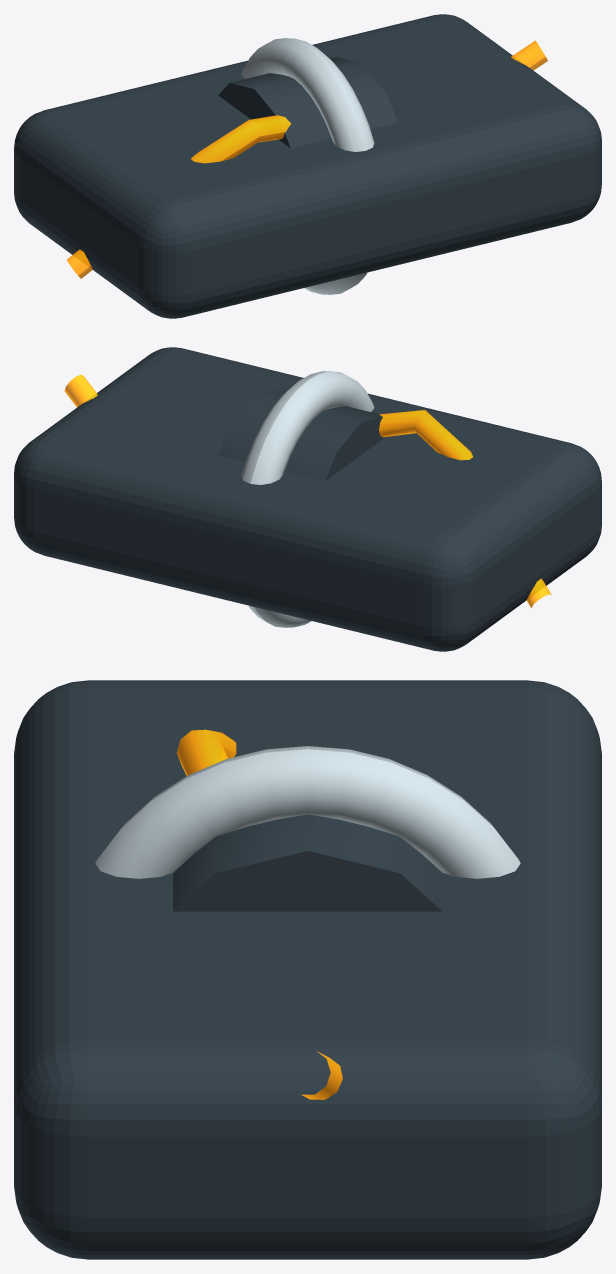
The model's file is body_26.glb.
The picture shows the model from 3 angles, top to bottom: view 1: azimuth 30°, elevation 25°; view 2: azimuth 150°, elevation 25°; view 3: azimuth 270°, elevation 25°; orthographic projection. The views are drawn at different scales.
Parts seen in each view (by area): view 1: asset_mesh__body_1232__reference_body, asset_mesh__body_1246__functional_ring, asset_mesh__body_1246__rotor, asset_mesh__body_1248__fluid_path; view 2: asset_mesh__body_1232__reference_body, asset_mesh__body_1246__functional_ring, asset_mesh__body_1246__rotor, asset_mesh__body_1248__fluid_path; view 3: asset_mesh__body_1232__reference_body, asset_mesh__body_1246__functional_ring, asset_mesh__body_1246__rotor, asset_mesh__body_1248__fluid_path.
Part boxes in pixels (left/top/right/bottom): asset_mesh__body_1232__reference_body: left=14, top=14, right=601, bottom=318; asset_mesh__body_1246__functional_ring: left=241, top=38, right=374, bottom=294; asset_mesh__body_1246__rotor: left=218, top=57, right=397, bottom=148; asset_mesh__body_1248__fluid_path: left=67, top=40, right=547, bottom=278; asset_mesh__body_1232__reference_body: left=14, top=347, right=601, bottom=651; asset_mesh__body_1246__functional_ring: left=241, top=371, right=374, bottom=627; asset_mesh__body_1246__rotor: left=218, top=390, right=385, bottom=481; asset_mesh__body_1248__fluid_path: left=64, top=374, right=551, bottom=608; asset_mesh__body_1232__reference_body: left=14, top=680, right=601, bottom=1259; asset_mesh__body_1246__functional_ring: left=95, top=746, right=520, bottom=878; asset_mesh__body_1246__rotor: left=173, top=814, right=442, bottom=911; asset_mesh__body_1248__fluid_path: left=177, top=729, right=342, bottom=1099.
Size of the model in its own units: 1.54 by 0.7304 by 0.882.
